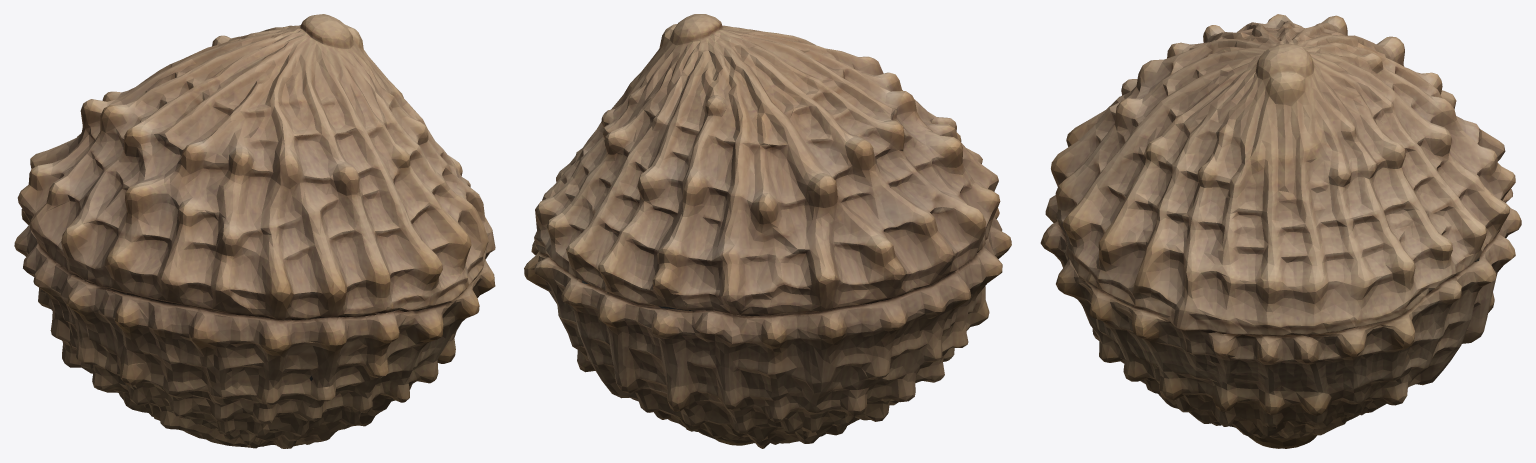
3 views of the same model, side by side, from view 1: azimuth 30°, elevation 25°; view 2: azimuth 150°, elevation 25°; view 3: azimuth 270°, elevation 25° (orthographic).
Visible parts, largest first — view 1: world; view 2: world; view 3: world.
Boxes of the visible parts, bbox=[...] form: world: bbox=[14, 14, 495, 448]; world: bbox=[524, 14, 1011, 448]; world: bbox=[1040, 14, 1521, 448].
Size of the model in its own units: 0.035 by 0.033 by 0.0347.
Materials: 1 (1 with a texture image).
